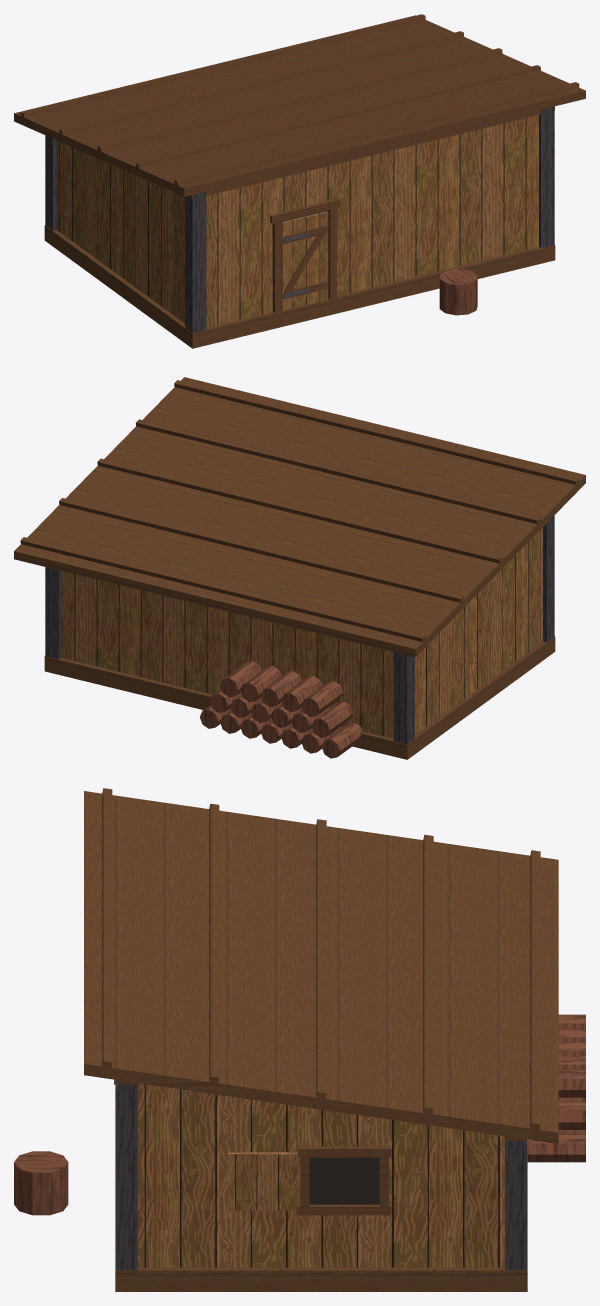
Rendered from rftshack.glb.
The picture shows the model from 3 angles, top to bottom: view 1: azimuth 30°, elevation 25°; view 2: azimuth 150°, elevation 25°; view 3: azimuth 270°, elevation 25°; orthographic projection. The views are drawn at different scales.
Visible parts, largest first — view 1: box; view 2: box; view 3: box.
Boxes of the visible parts, x1,y1,x2,y2 form: box: (14, 14, 585, 348); box: (14, 377, 585, 759); box: (14, 788, 585, 1291).
Size of the model in its own units: 8.64 by 3.6 by 7.65.
Materials: 6 (4 with a texture image).
